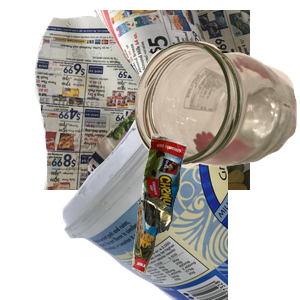glass: (132, 38, 300, 199)
paper: (32, 10, 272, 190)
plastic: (60, 120, 300, 300)
trash: (130, 131, 300, 300)
